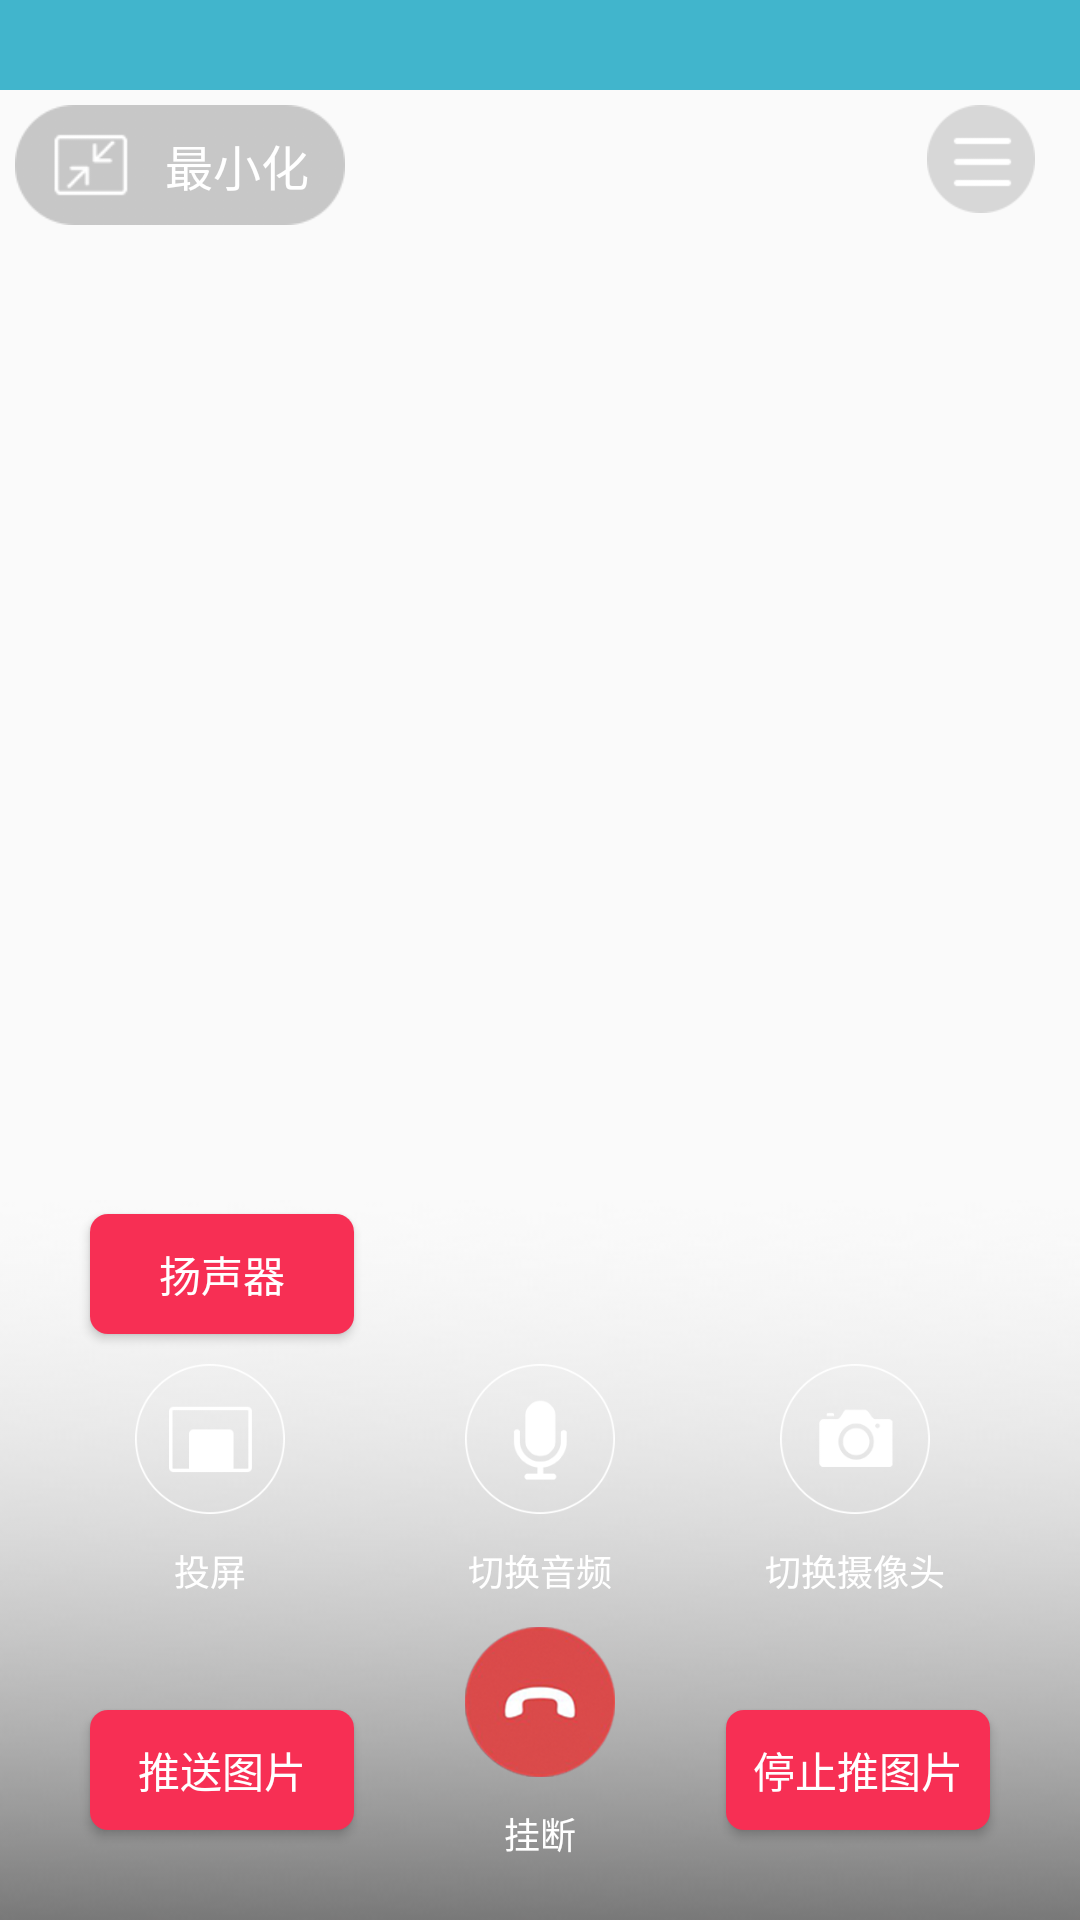

Where to tap for icons on this 1080 x 1920 app screen, as point (x, y):
more: point (981, 159)
